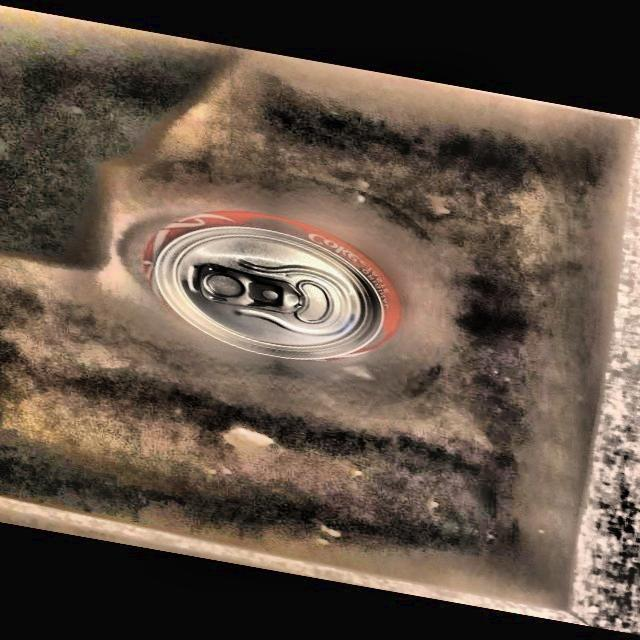coke-can: (144, 192, 400, 379)
